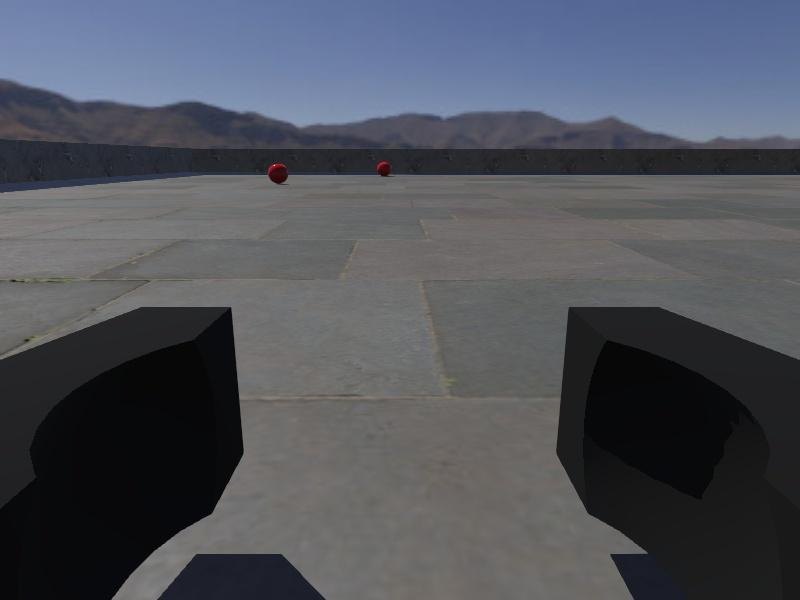red ball: (266, 162, 289, 185), (376, 160, 393, 178)
